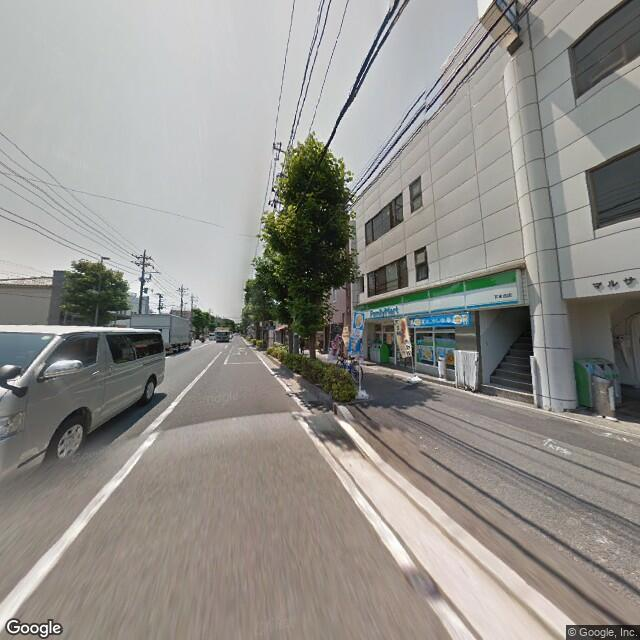family_mart: (357, 268, 519, 323), (368, 305, 401, 319)
